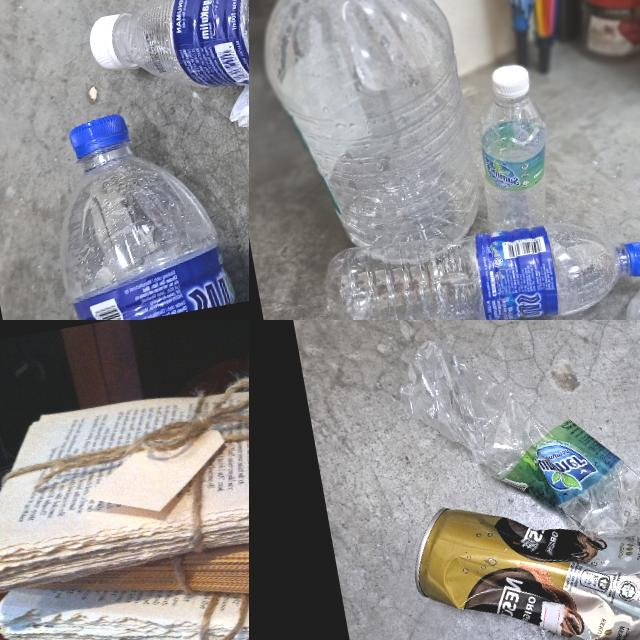garrafa plástica: (249, 0, 485, 275), (392, 320, 640, 574), (310, 201, 630, 320), (42, 136, 231, 320), (465, 95, 565, 253), (118, 0, 249, 107)
lata: (405, 469, 640, 640)
papel: (0, 339, 249, 640)
tampa plástica: (64, 106, 130, 162), (83, 6, 130, 74), (491, 61, 531, 106), (619, 236, 640, 277)
